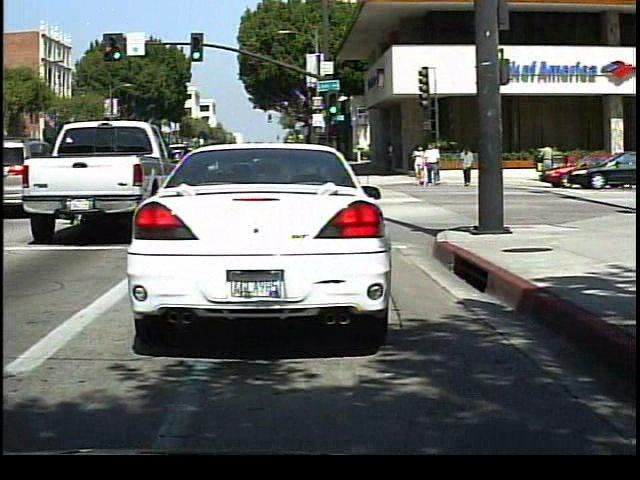person: (424, 139, 444, 188), (535, 139, 557, 183), (458, 142, 476, 187), (411, 142, 428, 188)
